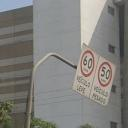speed_limit_50: (98, 60, 113, 86)
speed_limit_60: (80, 49, 94, 77)
